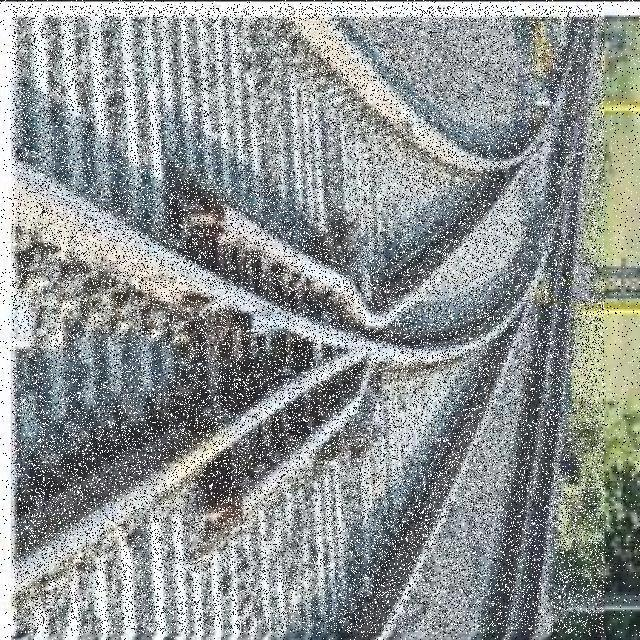rail: (14, 7, 605, 634)
